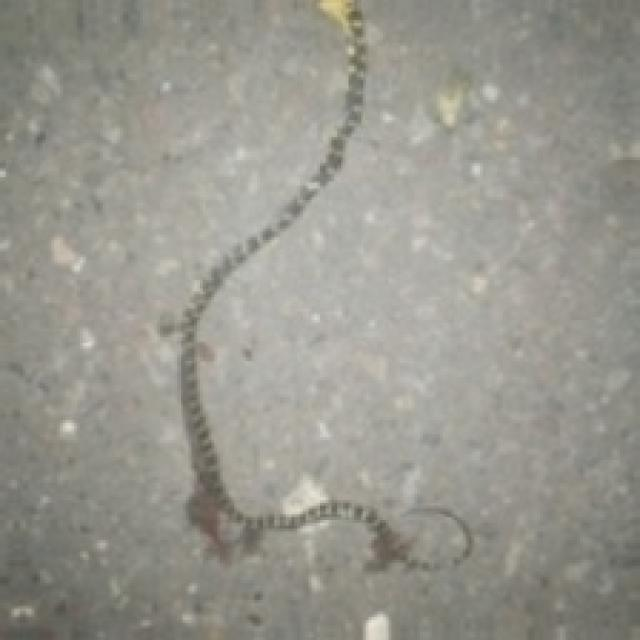mangrove cat snake: (180, 0, 406, 557)
